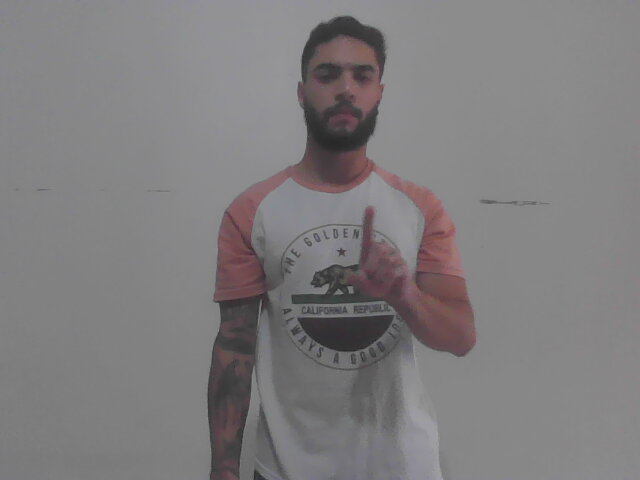z: (337, 202, 418, 307)
